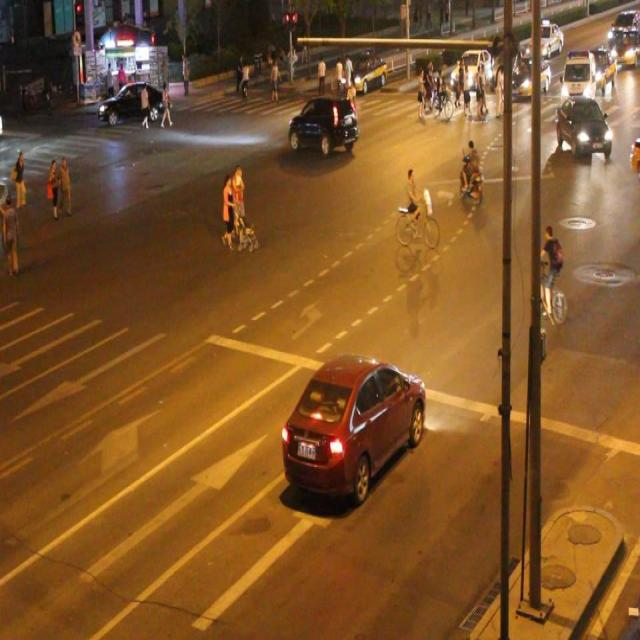car: (282, 353, 427, 497), (287, 95, 358, 152), (554, 97, 610, 158), (98, 82, 172, 124), (627, 134, 640, 175)
